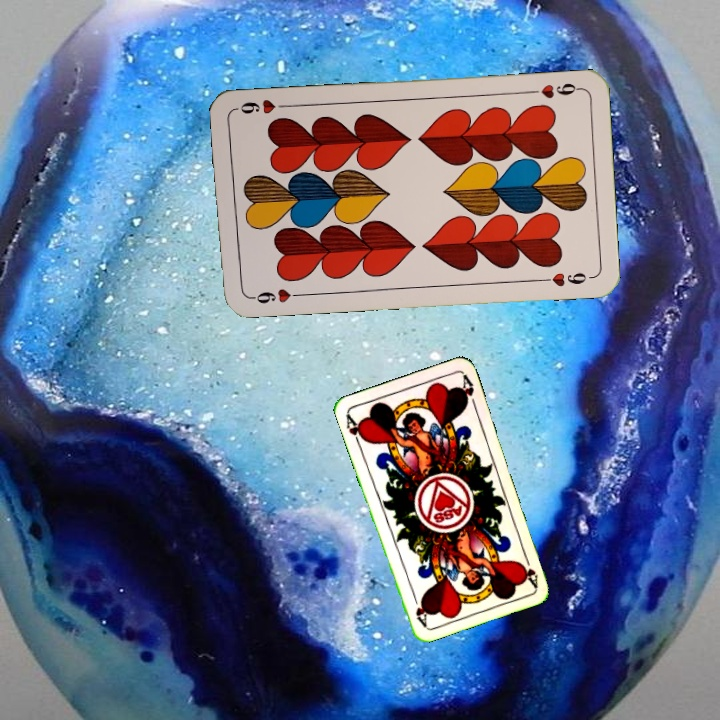H9: (524, 79, 583, 101), (245, 284, 304, 306)
HA: (342, 410, 368, 450), (517, 549, 540, 589)
